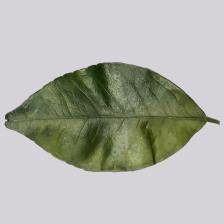healthy: (16, 71, 224, 166)
